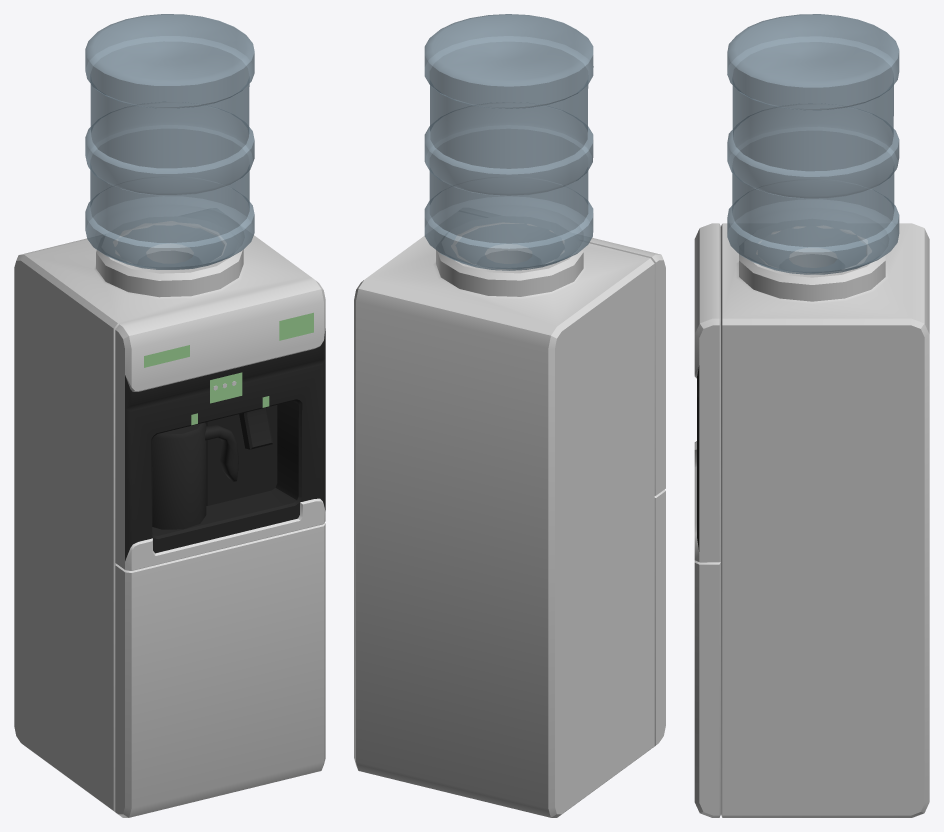
3 views of the same model, side by side, from view 1: azimuth 30°, elevation 25°; view 2: azimuth 150°, elevation 25°; view 3: azimuth 270°, elevation 25° (orthographic).
Visible parts, largest first — view 1: B77; view 2: B77; view 3: B77.
Part boxes in pixels (x1,y1,x2,y2): B77: (14, 14, 325, 817); B77: (354, 14, 665, 817); B77: (694, 14, 929, 817).
Bounding box in the file's own units: 45 × 44.96 × 152.
